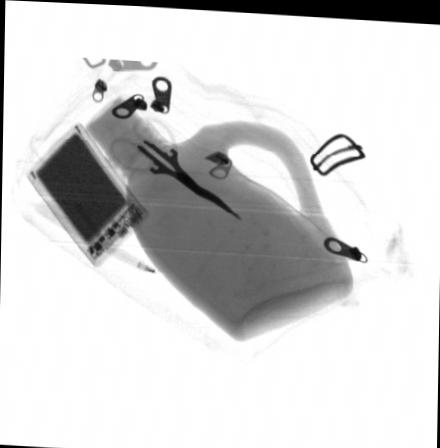Powerbank: (23, 120, 149, 268)
Scissors: (104, 112, 245, 219)
